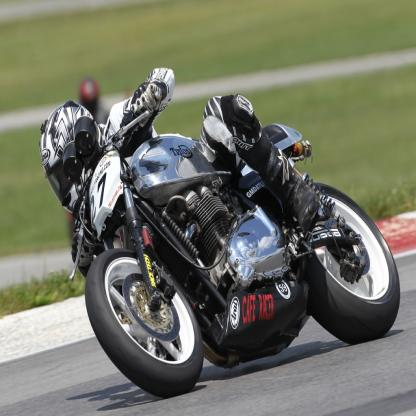Helmet: (42, 100, 96, 204), (201, 92, 264, 165)
